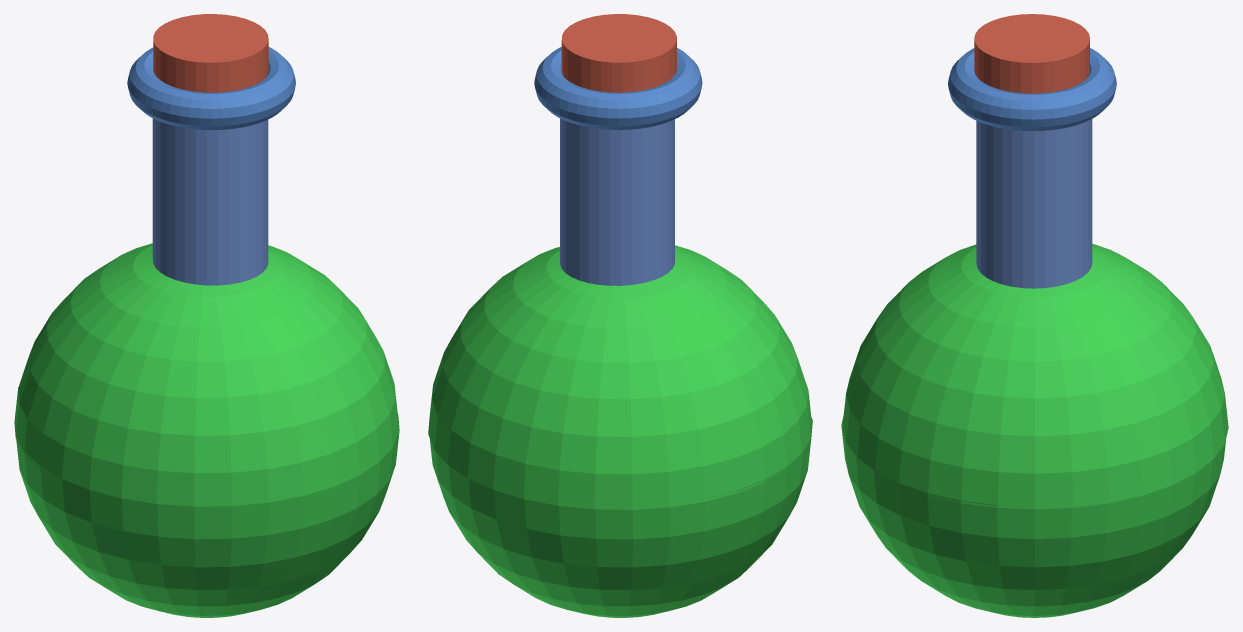
File: bottle.fbx
The picture shows the model from 3 angles, left to right: view 1: azimuth 30°, elevation 25°; view 2: azimuth 150°, elevation 25°; view 3: azimuth 270°, elevation 25°; orthographic projection.
Parts seen in each view (by area): view 1: Cylinder; view 2: Cylinder; view 3: Cylinder.
Boxes of the visible parts, <box> form: Cylinder: <box>14,14,399,617</box>; Cylinder: <box>428,14,812,617</box>; Cylinder: <box>841,14,1228,617</box>.
Size of the model in its own units: 2 by 3.21 by 2.01.
